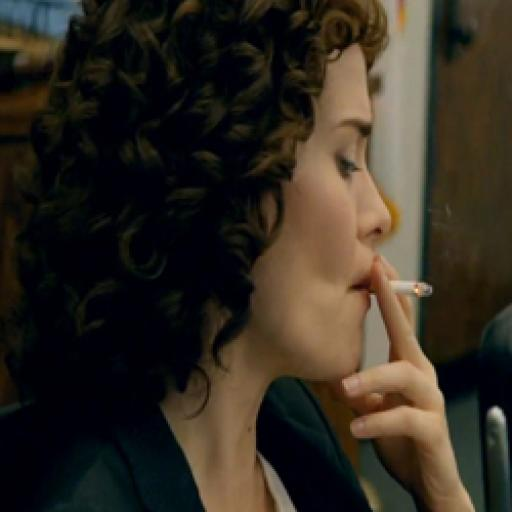terdeteksi merokok: (302, 146, 447, 378)
